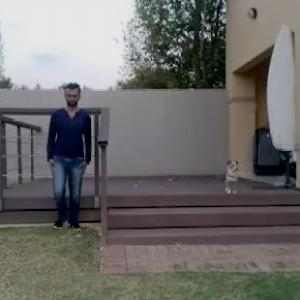follow: (46, 75, 92, 242)
